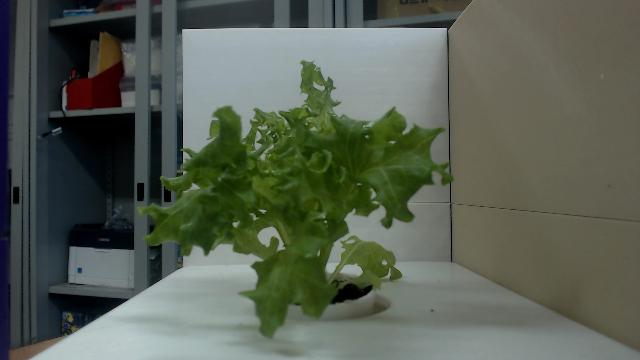Harvest Stage: (136, 58, 456, 340)
